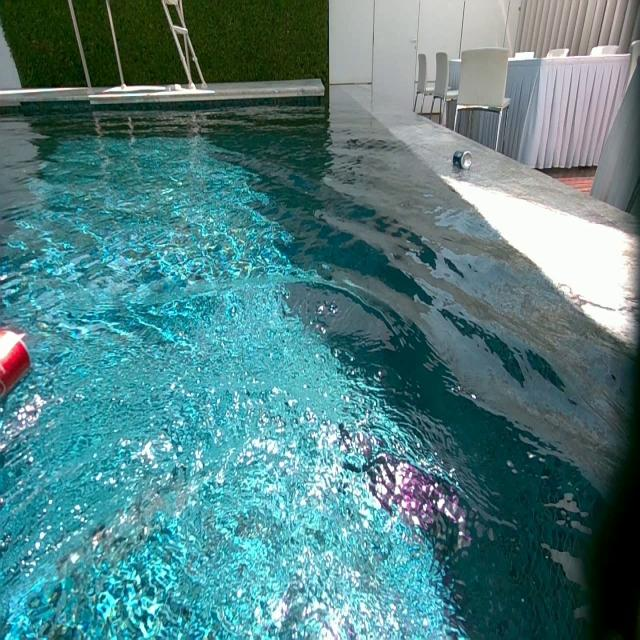Cans: (0, 317, 30, 408), (453, 150, 472, 169)
